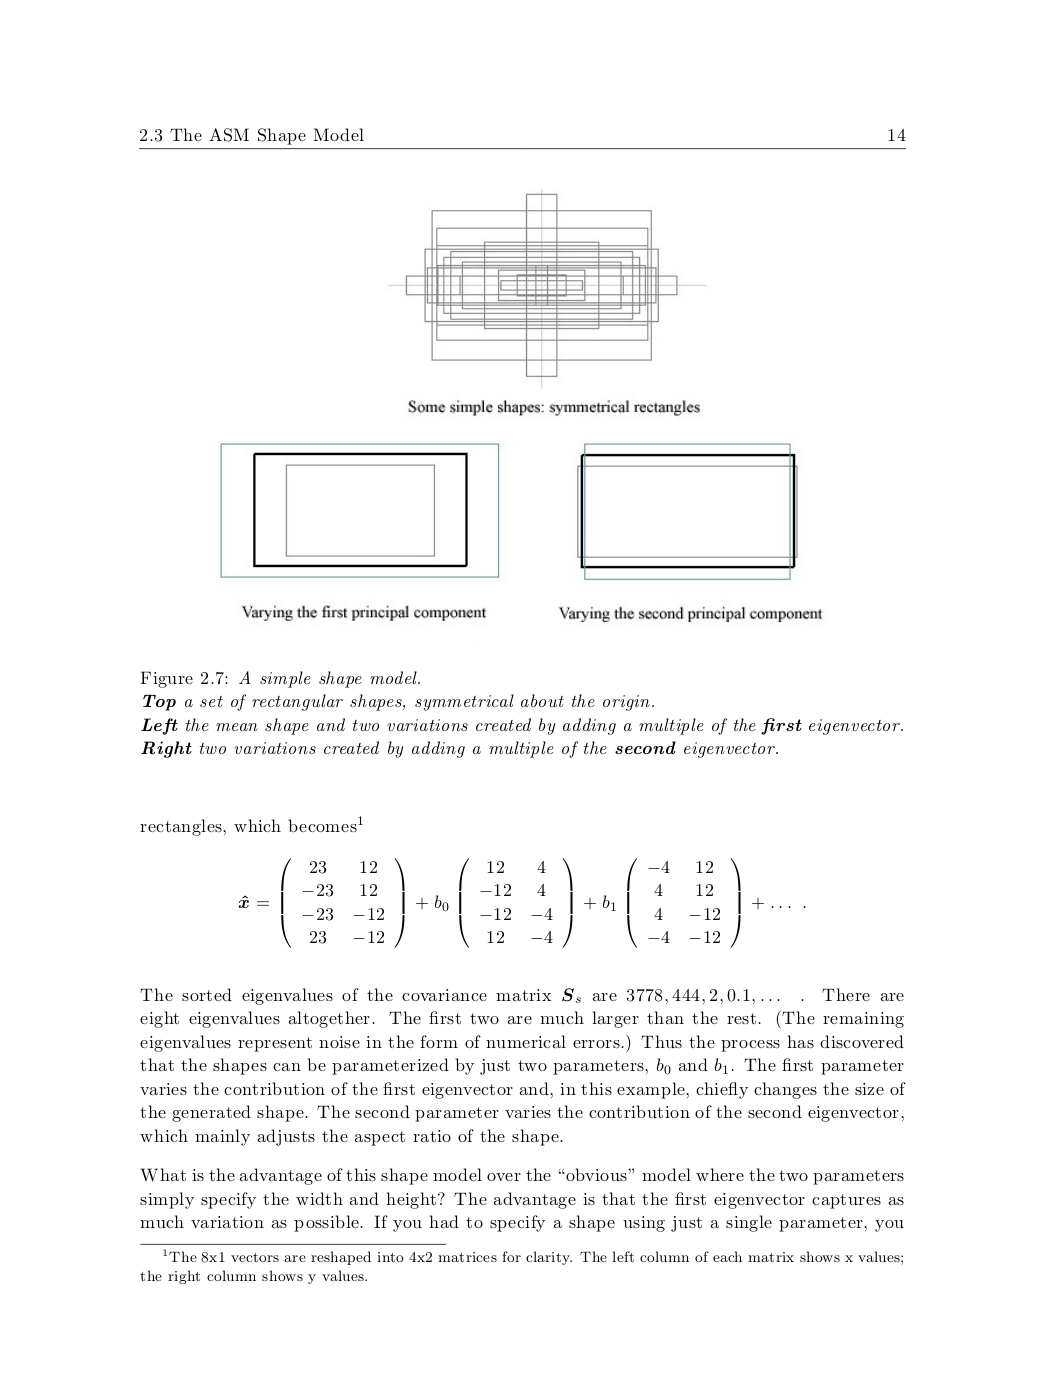figure: (388, 188, 705, 389), (220, 442, 499, 578), (577, 442, 797, 580), (140, 1241, 446, 1245)
formula: (239, 857, 805, 948)
